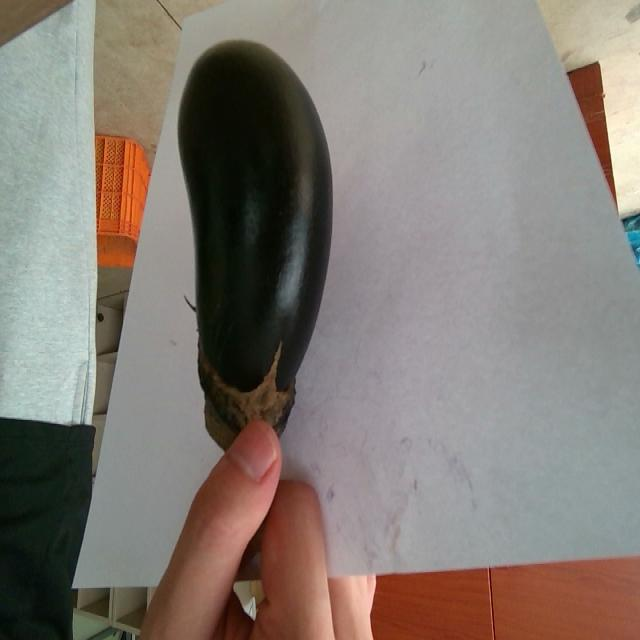Egg plant: (179, 43, 332, 449)
